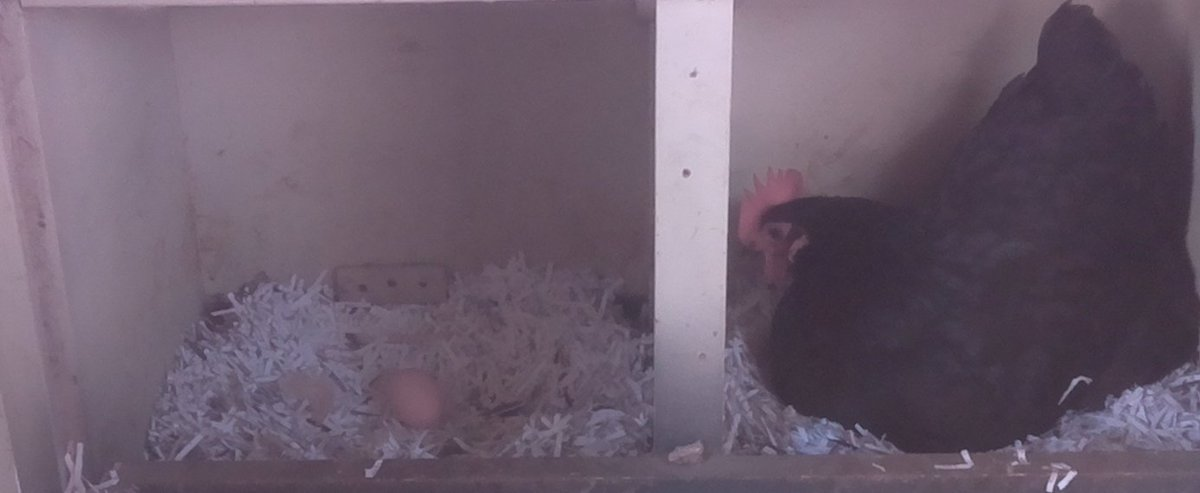egg: (377, 364, 454, 435)
hen: (738, 8, 1200, 438)
